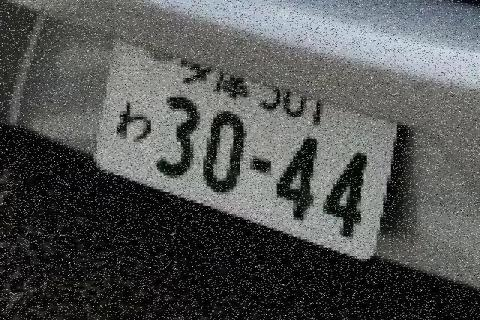LicensePlate: (88, 18, 394, 264)
